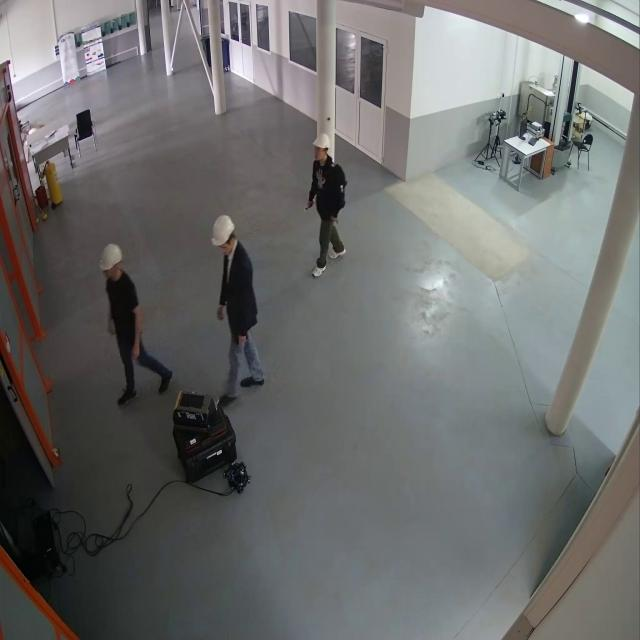Hardhat: (210, 211, 236, 248), (96, 242, 125, 270), (310, 132, 334, 151)
Person: (91, 240, 178, 406), (204, 210, 269, 408), (301, 130, 351, 282)
